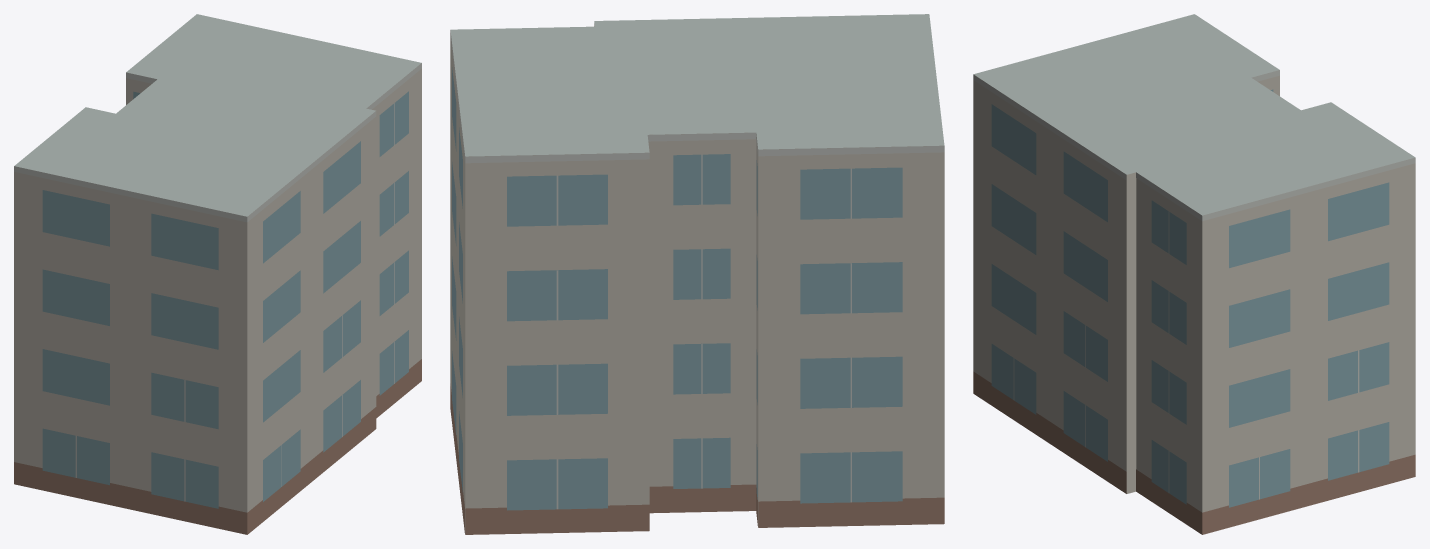
The model's file is residential-dd064382-6fca-4515-a814-7bb7f478efcd.glb.
The picture shows the model from 3 angles, left to right: view 1: azimuth 30°, elevation 25°; view 2: azimuth 150°, elevation 25°; view 3: azimuth 270°, elevation 25°; orthographic projection. The views are drawn at different scales.
Parts seen in each view (by area): view 1: residential-dd064382-6fca-4515-a814-7bb7f478efcd.tmp; view 2: residential-dd064382-6fca-4515-a814-7bb7f478efcd.tmp; view 3: residential-dd064382-6fca-4515-a814-7bb7f478efcd.tmp.
Part boxes in pixels (x1,y1,x2,y2): residential-dd064382-6fca-4515-a814-7bb7f478efcd.tmp: (14,14,421,534); residential-dd064382-6fca-4515-a814-7bb7f478efcd.tmp: (450,14,944,534); residential-dd064382-6fca-4515-a814-7bb7f478efcd.tmp: (973,14,1415,534).
Size of the model in its own units: 18.56 by 13.7 by 17.21.
